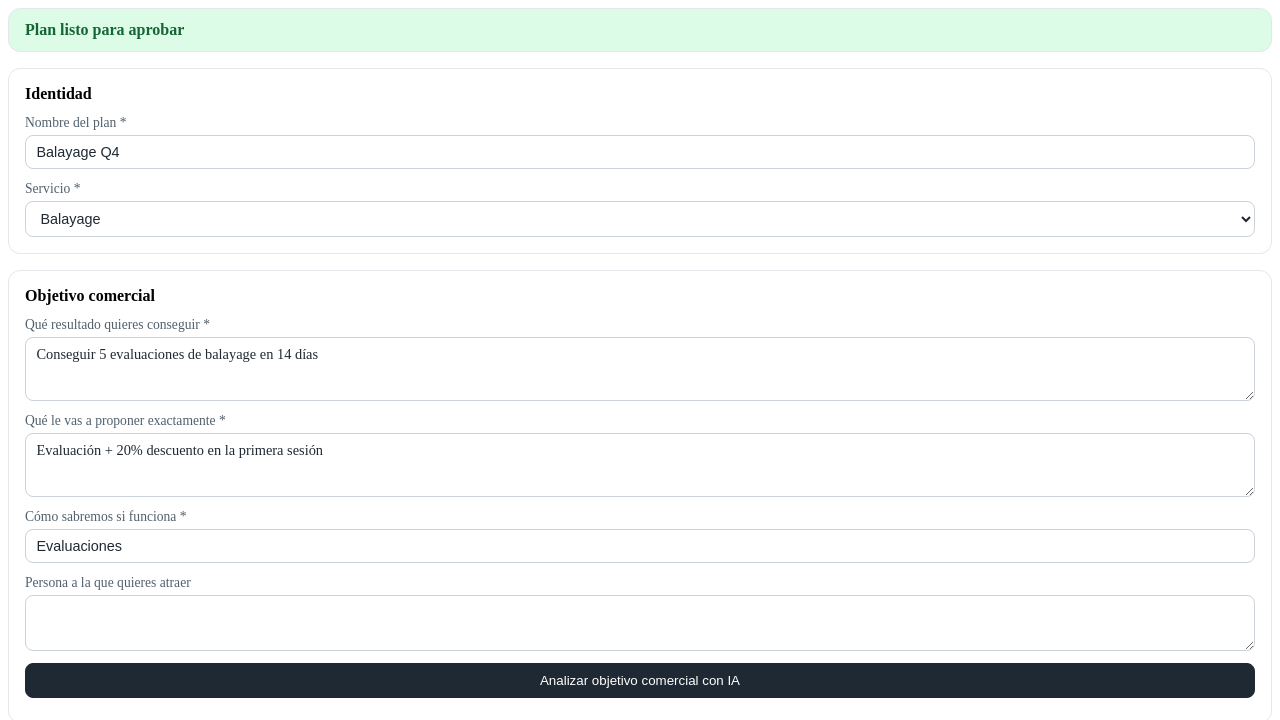
Test: CampaignBriefForm · Analizar objetivo comercial con IA › dispara la server action al pulsar el botón y muestra dos tarjetas
Step 1. Click the button with test id "cb-suggest-rules" → (640, 680), box [25, 663, 1255, 698]
(page scrolled)
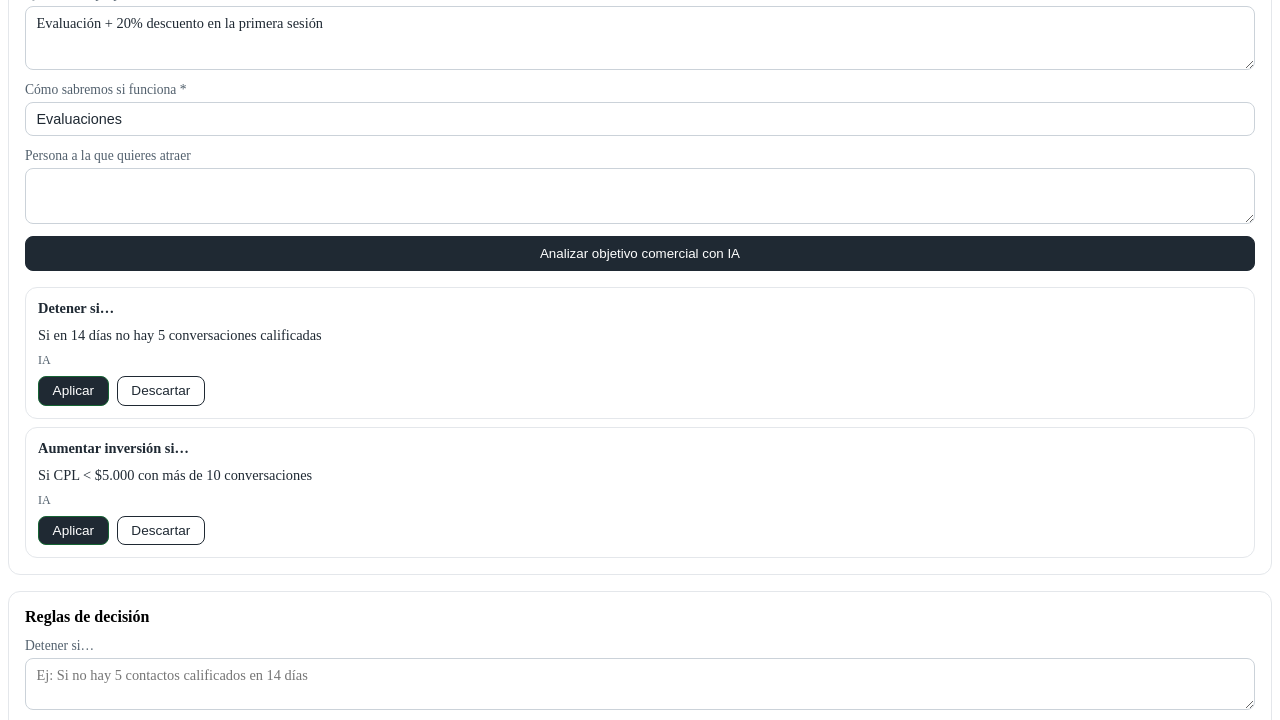
Check: the element with test id "cb-suggest-rules-stopIf" shows "Si en 14 días no hay 5 conversaciones calificadas", box [38, 327, 322, 343]
Check: the element with test id "cb-suggest-rules-scaleIf" shows "Si CPL < $5.000 con más de 10 conversaciones", box [38, 466, 312, 482]
Check: the text with test id "cb-suggest-rules-stopIf-meta" reads "IA", box [38, 353, 51, 367]
